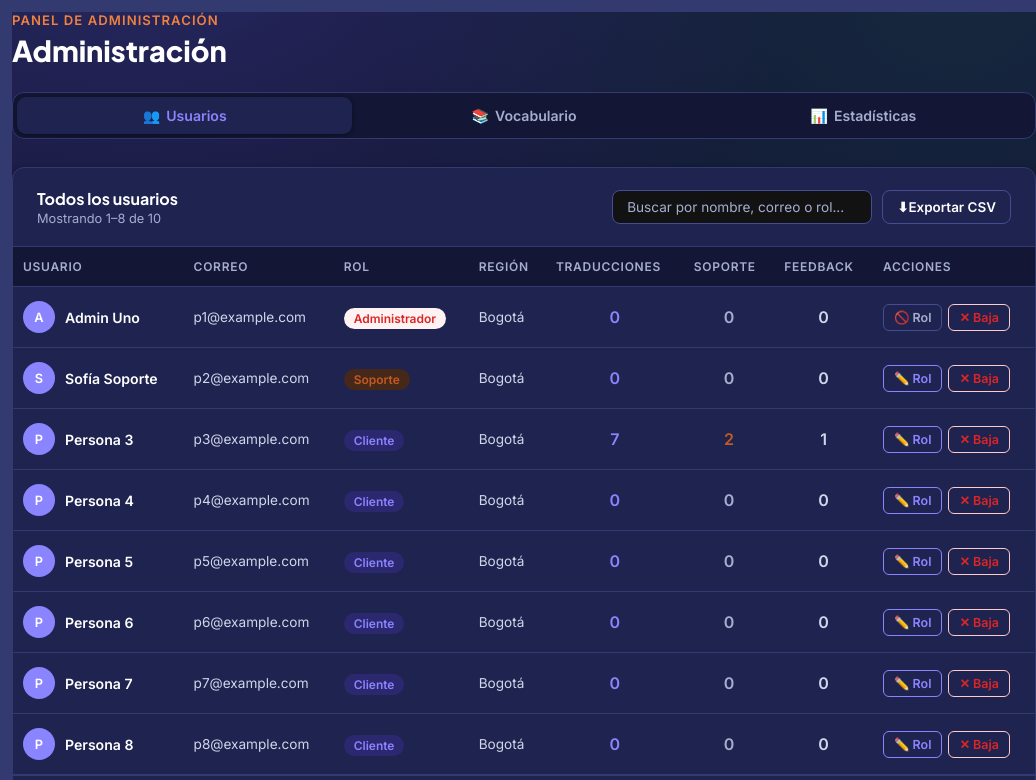
Test: Administración · Usuarios › should warn when the status cannot be changed
Expected: the text "Mostrando 1–8 de 10" is shown, left=37, top=211, right=178, bottom=226
What coordinates should you click on to do the following:
click the button titled "Desactivar usuario" in the row of "Persona 4"
I would click on:
 (979, 500)
Its box is left=948, top=486, right=1010, bottom=514.
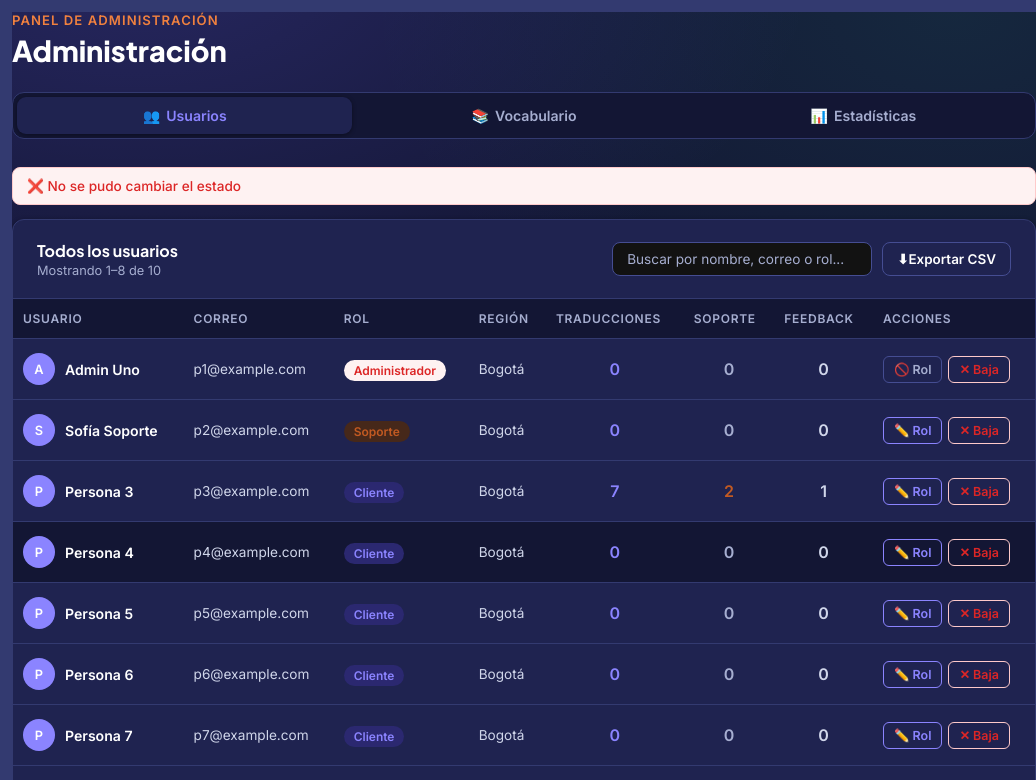
Now the text "❌ No se pudo cambiar el estado" is shown, box left=12, top=167, right=1035, bottom=205
